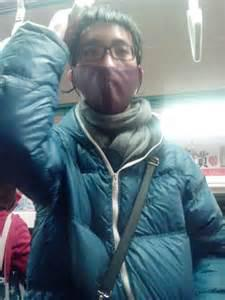WRONG: (73, 35, 143, 107)
